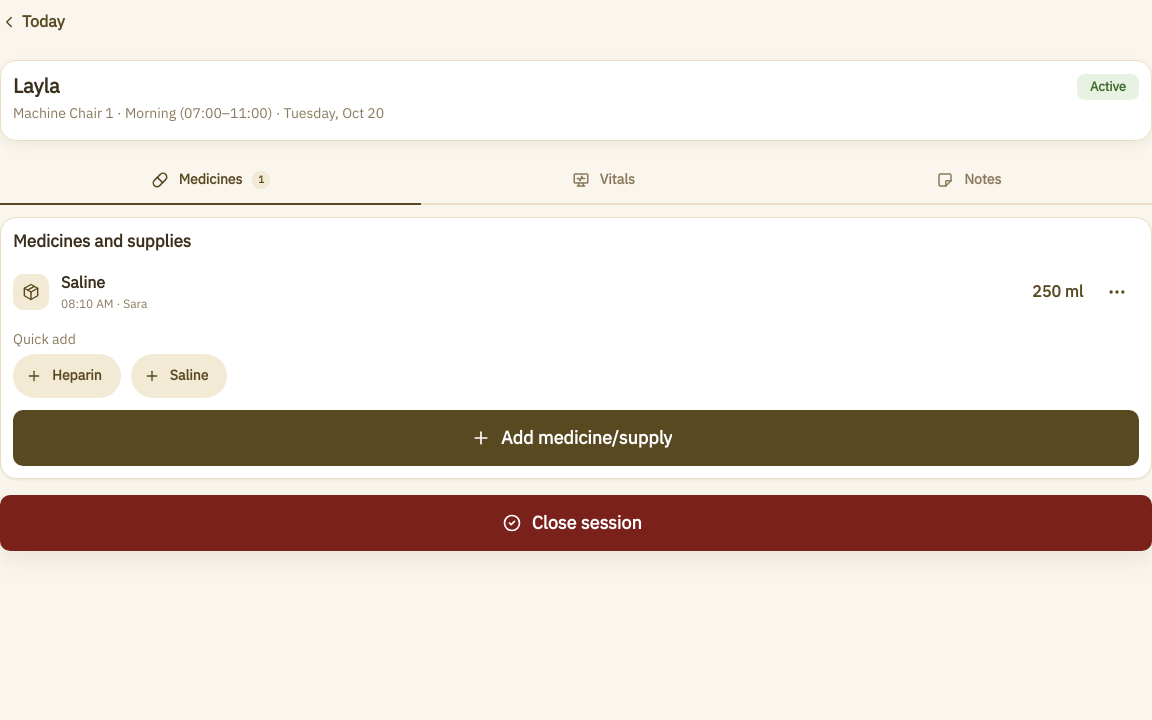
SessionPage › quick chips put Heparin first and prefill the amount form with that item
The image size is (1152, 720).
Click the button "Add medicine/supply": click(576, 438) [13,410,1139,466]
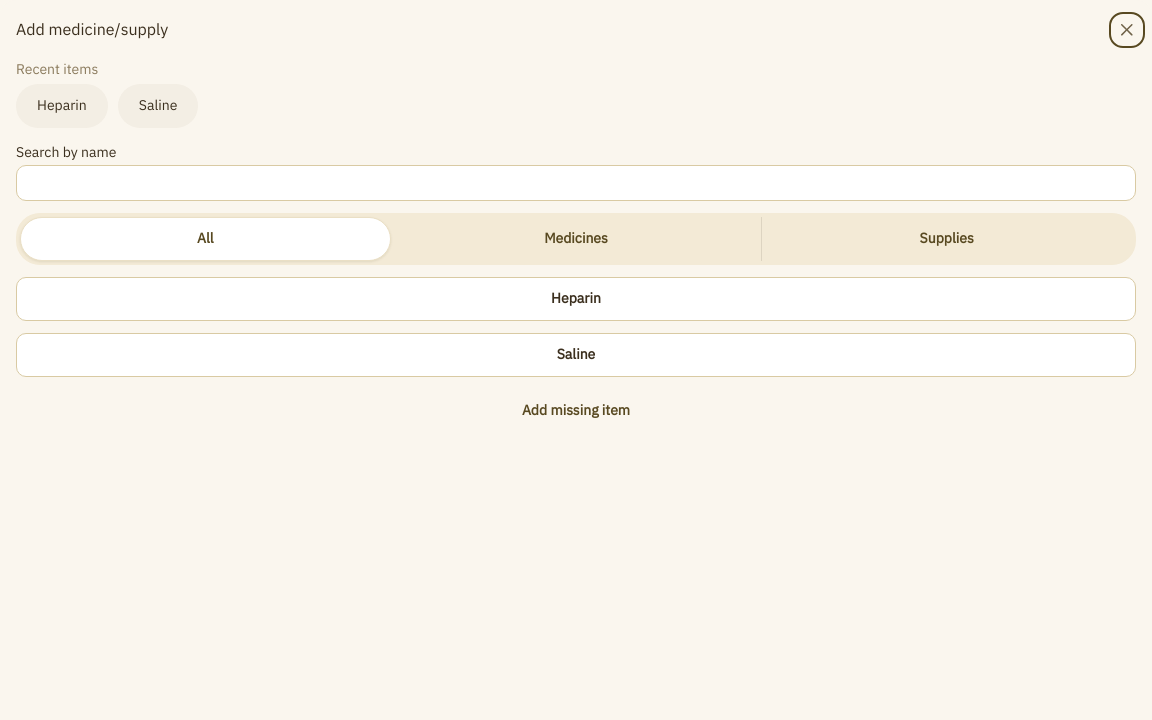
Click the text "Heparin": click(62, 106) [37,93,87,119]
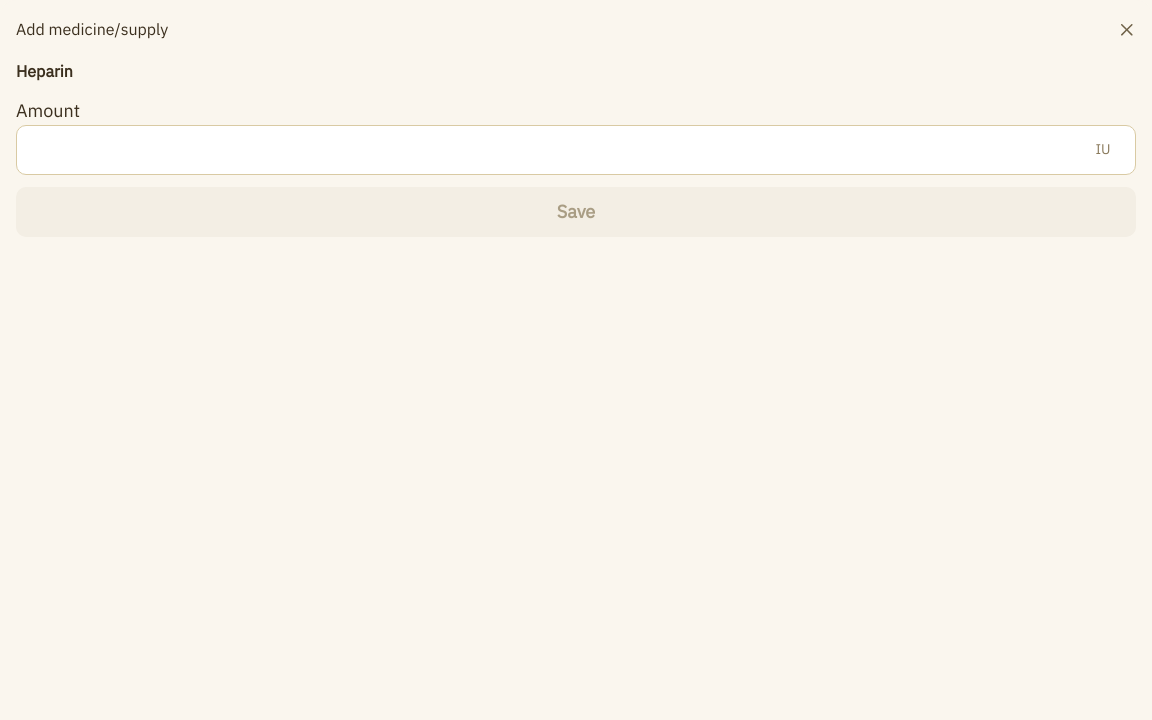
Expected: the field labelled "Amount" is shown, [16,125,1136,175]
Expected: the text "IU" is shown, [1096,140,1111,160]
